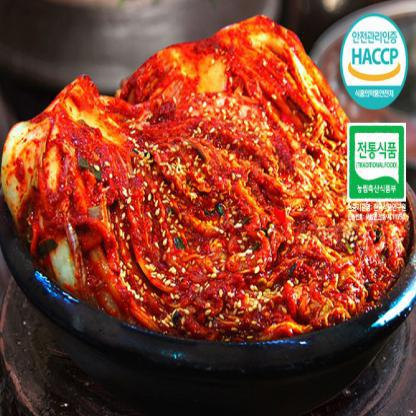kimchi: (5, 79, 332, 363), (119, 14, 404, 291)
